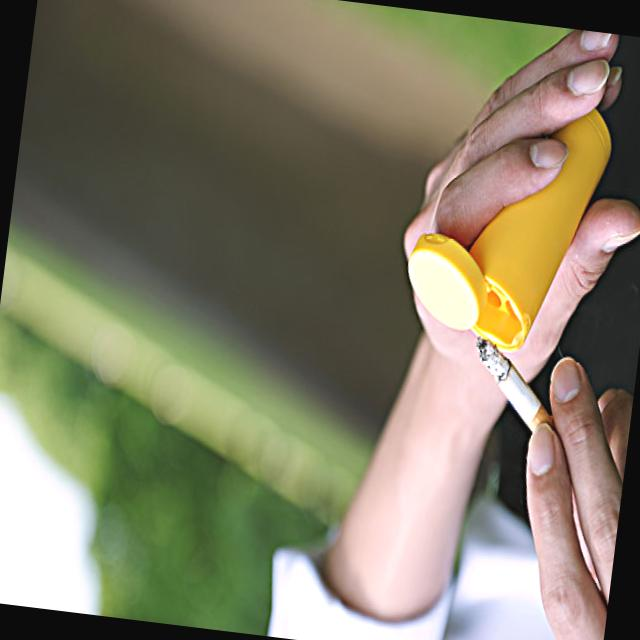cigarette: (468, 333, 546, 434)
